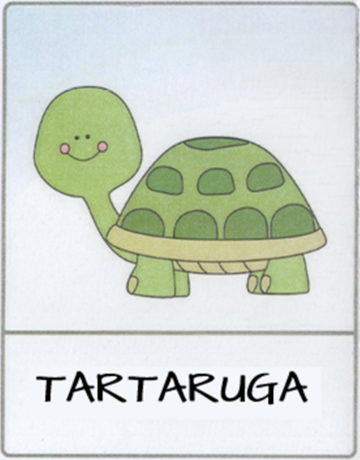tartaruga: (10, 33, 360, 428)
